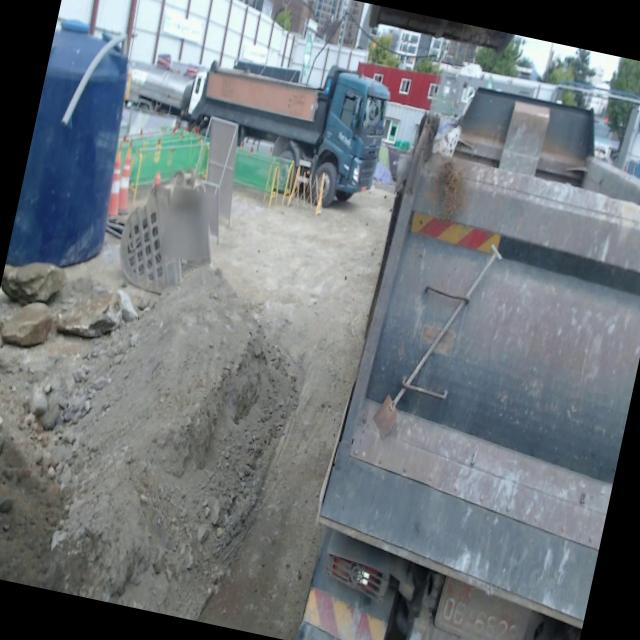red-sand: (0, 438, 62, 592)
stone: (56, 291, 121, 338), (0, 262, 65, 305), (0, 302, 53, 347)
white-sand: (46, 271, 300, 621)
